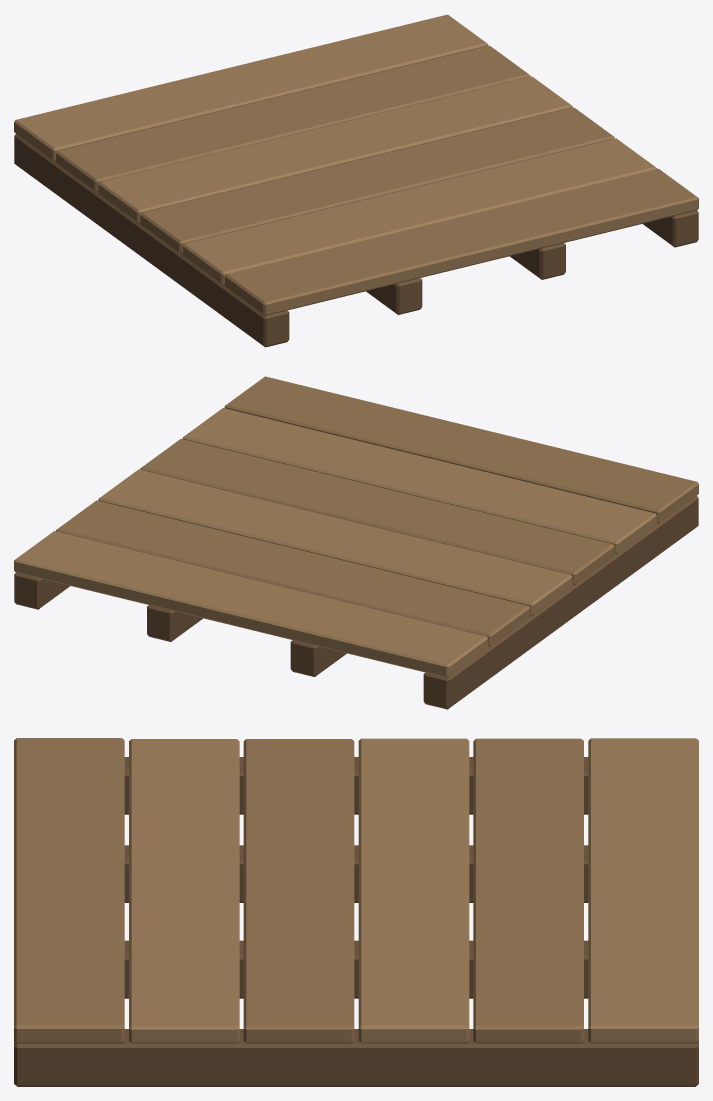
Rendered from wood_ceiling.glb.
3 renders of one model, top to bottom at view 1: azimuth 30°, elevation 25°; view 2: azimuth 150°, elevation 25°; view 3: azimuth 270°, elevation 25°, orthographic. The views are drawn at different scales.
Visible parts, largest first — view 1: wood_ceiling; view 2: wood_ceiling; view 3: wood_ceiling.
Part boxes in pixels (x1,y1,x2,y2): wood_ceiling: (14, 14, 698, 347); wood_ceiling: (14, 376, 698, 709); wood_ceiling: (14, 738, 698, 1086).
Size of the model in its own units: 2 by 0.1997 by 2.
